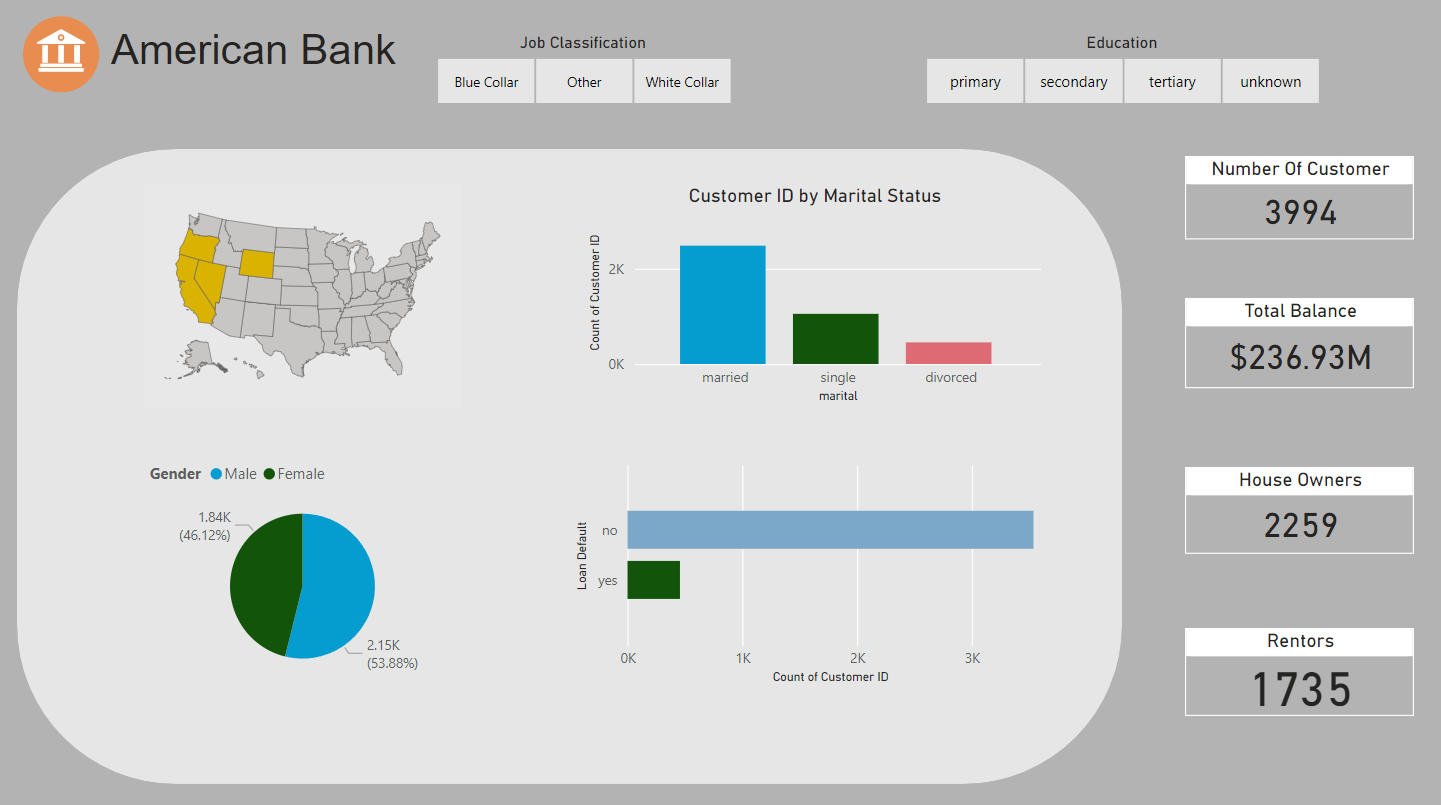

This screenshot's page, from the dashboard's own definition file:
{"tool":"powerbi","page":{"name":"ABFINAL2","canvas":[1280,720],"ordinal":1},"visuals":[{"type":"shape","box":[16,138.3,979.8,563.1],"z":0},{"type":"card","title":"Number Of Customer","fields":{"Values":["All Measures.Number Of Customer"]},"box":[1051.6,144.5,203.1,74.5],"z":1000},{"type":"card","title":"Total Balance","fields":{"Values":["All Measures.Total Balance"]},"box":[1051.6,270.4,203.1,79.8],"z":2000},{"type":"card","title":"House Owners","fields":{"Values":["All Measures.house owners"]},"box":[1051.6,420.3,203.1,77.1],"z":3000},{"type":"card","title":"Rentors","fields":{"Values":["All Measures.Rentors"]},"box":[1051.6,563.1,203.1,78],"z":4000},{"type":"slicer","title":"Job Classification","fields":{"Values":["American Bank.Job Classification"]},"box":[363.5,35.5,308.6,69.2],"z":5000},{"type":"slicer","title":"Education","fields":{"Values":["American Bank.education"]},"box":[797.1,35.5,397.2,69.2],"z":6000},{"type":"image","box":[16,11.5,78,85.1],"z":7000},{"type":"textbox","box":[94,23.9,282.9,65.6],"z":8000},{"type":"columnChart","title":"Customer ID by Marital Status","fields":{"Y":["CountNonNull(American Bank.Customer ID)"],"Category":["American Bank.marital"]},"box":[517.8,169.4,411.4,198.6],"z":9000},{"type":"barChart","fields":{"Y":["CountNonNull(American Bank.Customer ID)"],"Category":["American Bank.Loan Default"]},"box":[506.3,406.1,423,211],"z":10000},{"type":"pieChart","fields":{"Category":["American Bank.Gender"],"Y":["CountNonNull(American Bank.Customer ID)"]},"box":[128.6,406.1,281.1,211],"z":11000},{"type":"shapeMap","fields":{"Category":["American Bank.State"]},"box":[128.6,169.4,281.1,198.6],"z":12000}]}

Visuals, with their boxes in screenshot pixels (x1, y1, x2, y2), scaled from the page's 1280x720 canvas onto the 1441x805 screenshot:
shape: bbox(18, 155, 1121, 784)
"Number Of Customer" card: bbox(1184, 162, 1413, 245)
"Total Balance" card: bbox(1184, 302, 1413, 392)
"House Owners" card: bbox(1184, 470, 1413, 556)
"Rentors" card: bbox(1184, 630, 1413, 717)
"Job Classification" slicer: bbox(409, 40, 757, 117)
"Education" slicer: bbox(897, 40, 1345, 117)
image: bbox(18, 13, 106, 108)
textbox: bbox(106, 27, 424, 100)
"Customer ID by Marital Status" columnChart: bbox(583, 189, 1046, 411)
barChart - CountNonNull(American Bank.Customer ID) x American Bank.Loan Default: bbox(570, 454, 1046, 690)
pieChart - American Bank.Gender x CountNonNull(American Bank.Customer ID): bbox(145, 454, 461, 690)
shapeMap - American Bank.State: bbox(145, 189, 461, 411)
